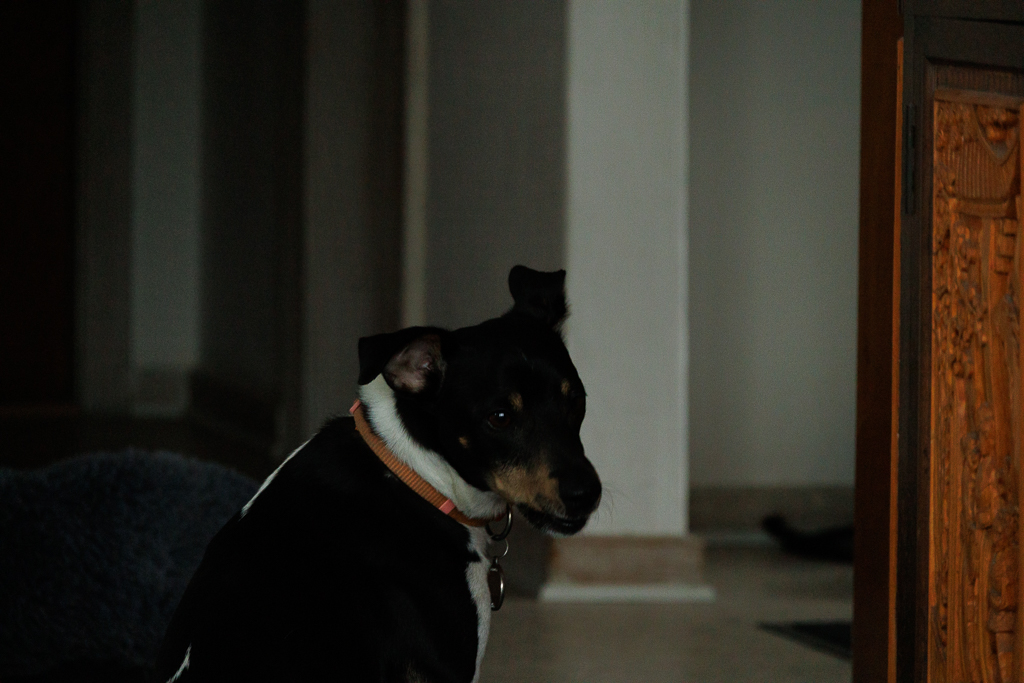Dog: (119, 259, 610, 683)
